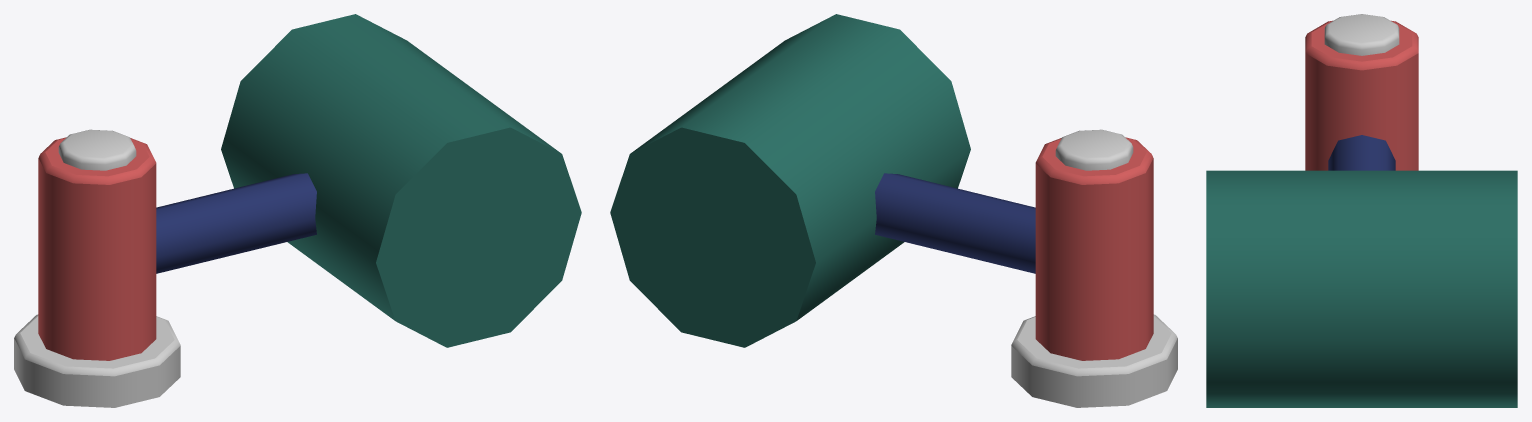
The model's file is Roller.fbx.
3 views of the same model, side by side, from view 1: azimuth 30°, elevation 25°; view 2: azimuth 150°, elevation 25°; view 3: azimuth 270°, elevation 25° (orthographic).
Visible parts, largest first — view 1: Roller_2, Basis; view 2: Roller_2, Basis; view 3: Roller_2, Basis.
Boxes of the visible parts, <box> form: Roller_2: <box>221,14,581,347</box>; Basis: <box>14,129,316,407</box>; Roller_2: <box>610,14,970,347</box>; Basis: <box>875,129,1177,407</box>; Roller_2: <box>1206,170,1517,407</box>; Basis: <box>1305,14,1418,170</box>.
Bounding box in the file's own units: 698 × 320 × 391.
